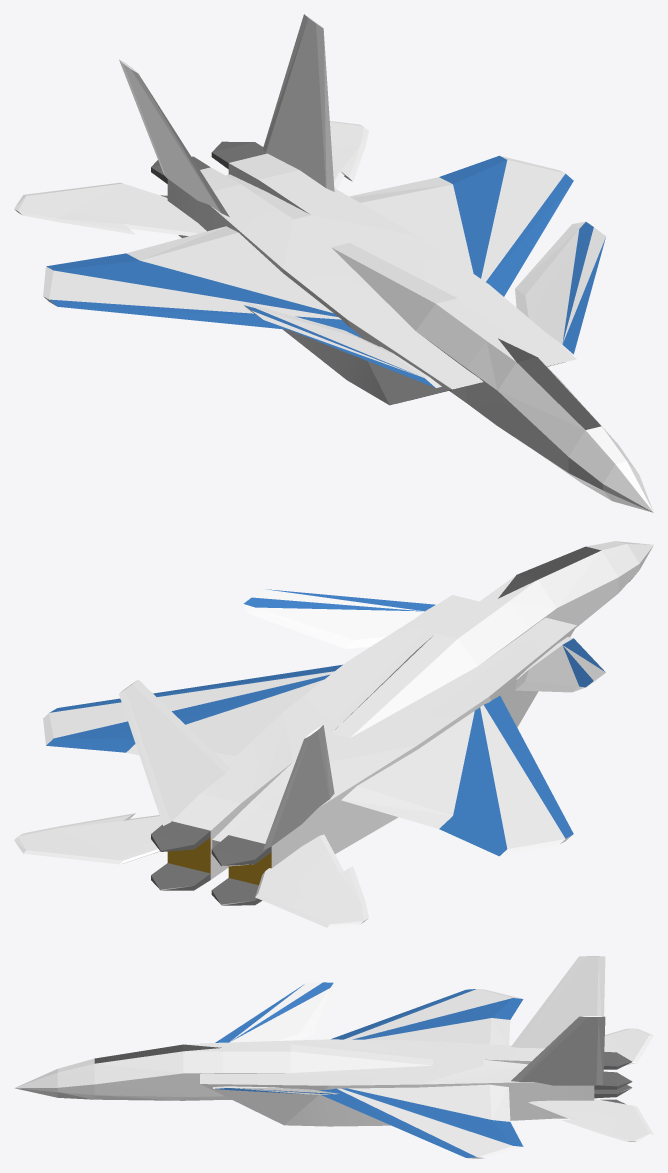
File: F15Active.obj
3 renders of one model, top to bottom at view 1: azimuth 30°, elevation 25°; view 2: azimuth 150°, elevation 25°; view 3: azimuth 270°, elevation 25°, orthographic. The views are drawn at different scales.
Visible parts, largest first — view 1: Cube.012, Cube.006, Cube.010, Cube.015, Cube.008; view 2: Cube.012, Cube.006, Cube.008, Cube.010, Cube.015; view 3: Cube.012, Cube.006, Cube.010, Cube.015, Cube.008.
Part boxes in pixels (x1=…): Cube.012: x1=151, y1=141, x2=653, y2=512; Cube.006: x1=43, y1=155, x2=573, y2=336; Cube.010: x1=119, y1=14, x2=334, y2=216; Cube.015: x1=243, y1=221, x2=605, y2=387; Cube.008: x1=14, y1=121, x2=368, y2=236; Cube.012: x1=151, y1=541, x2=653, y2=905; Cube.006: x1=43, y1=664, x2=573, y2=856; Cube.008: x1=14, y1=813, x2=368, y2=927; Cube.010: x1=119, y1=679, x2=334, y2=850; Cube.015: x1=243, y1=589, x2=605, y2=692; Cube.012: x1=14, y1=1039, x2=632, y2=1126; Cube.006: x1=319, y1=989, x2=523, y2=1158; Cube.010: x1=511, y1=956, x2=605, y2=1085; Cube.015: x1=213, y1=982, x2=339, y2=1094; Cube.008: x1=528, y1=1028, x2=653, y2=1141.
Size of the model in its own units: 16.88 by 5.55 by 27.1.
